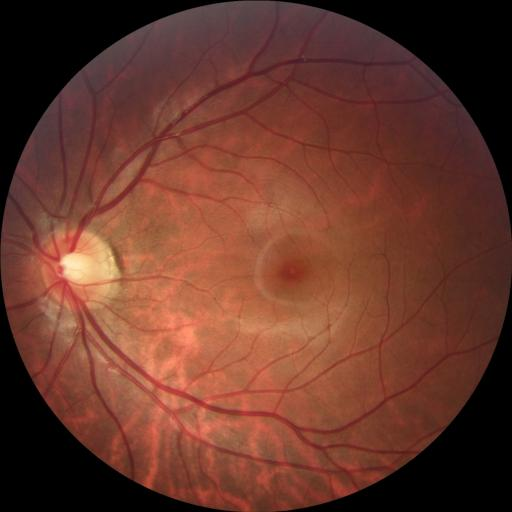Optic Cup: (57, 251, 90, 286)
Optic Disc: (41, 230, 112, 308)
